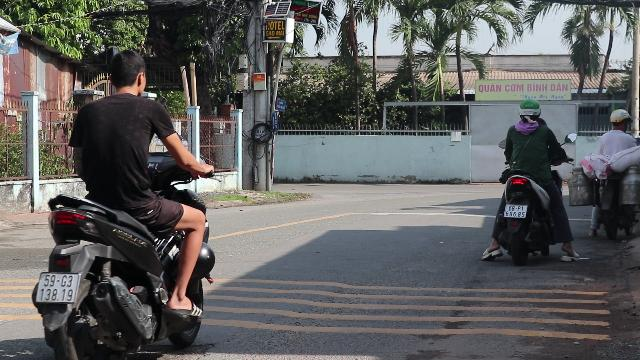helmet: (516, 96, 542, 121), (608, 108, 630, 130)
licenseplate: (36, 274, 78, 302), (504, 204, 528, 218)
motorcyclist: (28, 49, 220, 355), (486, 96, 574, 264), (587, 108, 639, 238)
nohelmet: (104, 50, 148, 96)
